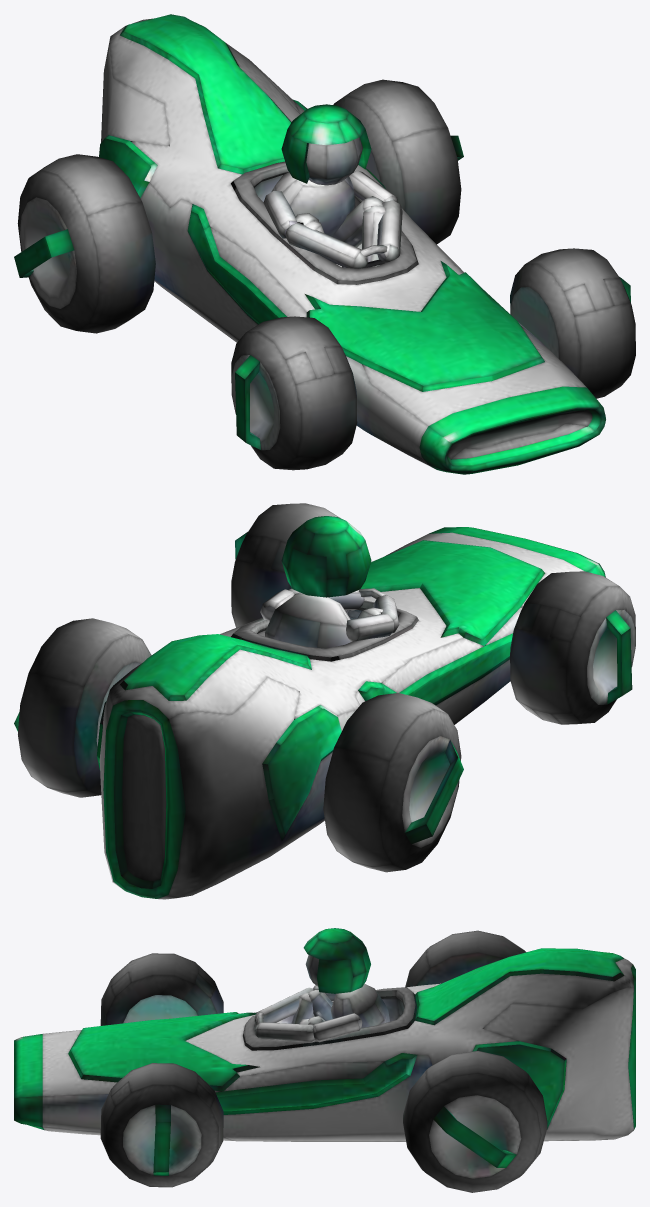
Rendered from car2.obj.
3 renders of one model, top to bottom at view 1: azimuth 30°, elevation 25°; view 2: azimuth 150°, elevation 25°; view 3: azimuth 270°, elevation 25°, orthographic. The views are drawn at different scales.
Parts seen in each view (by area): view 1: full_baked; view 2: full_baked; view 3: full_baked.
Part boxes in pixels (left/top/right/bottom): full_baked: left=14, top=14, right=635, bottom=474; full_baked: left=14, top=503, right=635, bottom=899; full_baked: left=14, top=928, right=635, bottom=1192.
Size of the model in its own units: 24.18 by 13.7 by 39.1.
Materials: 1 (1 with a texture image).
